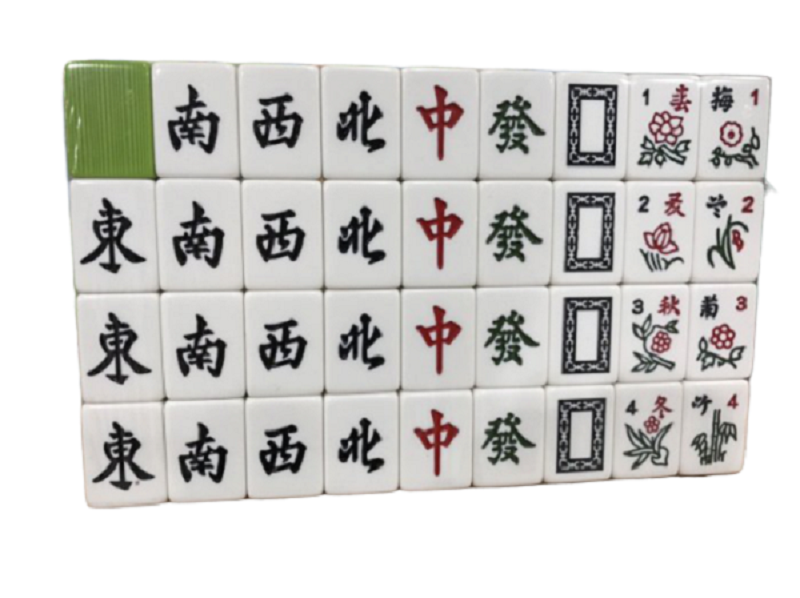dg: (479, 78, 552, 169), (480, 190, 548, 274), (478, 299, 545, 376)
dr: (405, 71, 476, 169), (406, 294, 473, 383), (407, 189, 472, 277), (475, 401, 541, 478), (408, 398, 466, 479)
dw: (555, 184, 620, 278), (560, 78, 623, 170), (547, 391, 611, 478), (555, 288, 615, 379)
f1: (702, 77, 774, 120)
f2: (696, 183, 767, 223)
f3: (691, 286, 758, 321)
f4: (685, 384, 747, 420)
s1: (632, 82, 699, 115)
s2: (629, 183, 694, 227)
s3: (622, 286, 686, 319)
s4: (616, 385, 679, 423)
we: (82, 294, 162, 397), (79, 183, 152, 288), (84, 404, 163, 497)
wn: (323, 68, 401, 177), (327, 187, 400, 283), (324, 296, 395, 386)
ws: (154, 64, 233, 168), (159, 179, 233, 281), (329, 401, 402, 491), (168, 296, 240, 386), (173, 405, 238, 490)
ww: (247, 189, 315, 283), (244, 76, 313, 167), (252, 405, 316, 488), (254, 303, 318, 384)
